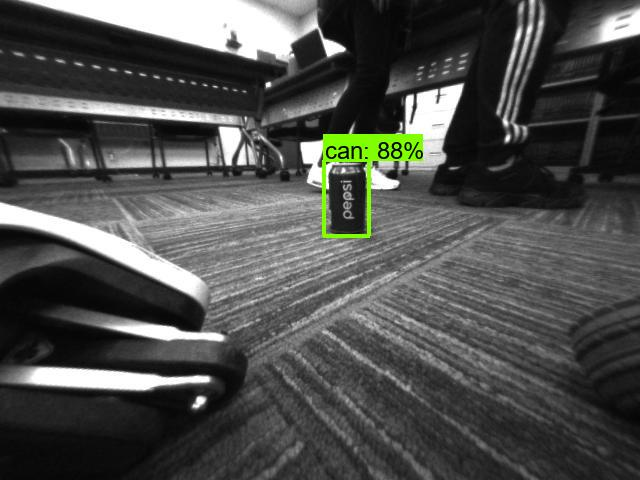can: (327, 159, 369, 238)
